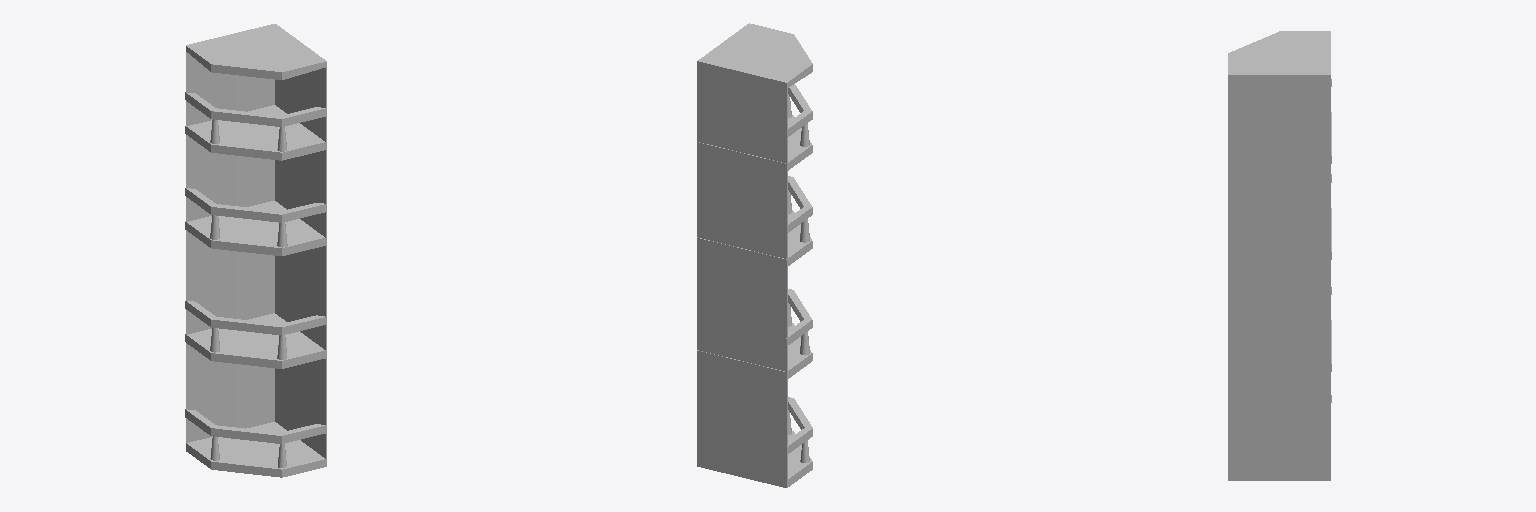
Rendered from meuble d'angle.obj.
3 views of the same model, side by side, from view 1: azimuth 30°, elevation 25°; view 2: azimuth 150°, elevation 25°; view 3: azimuth 270°, elevation 25° (orthographic).
Parts seen in each view (by area): view 1: Cube; view 2: Cube; view 3: Cube.
Boxes of the visible parts, <box> form: Cube: <box>185,24,326,477</box>; Cube: <box>697,23,812,487</box>; Cube: <box>1228,31,1331,480</box>.
Size of the model in its own units: 2.01 by 8.63 by 2.01.